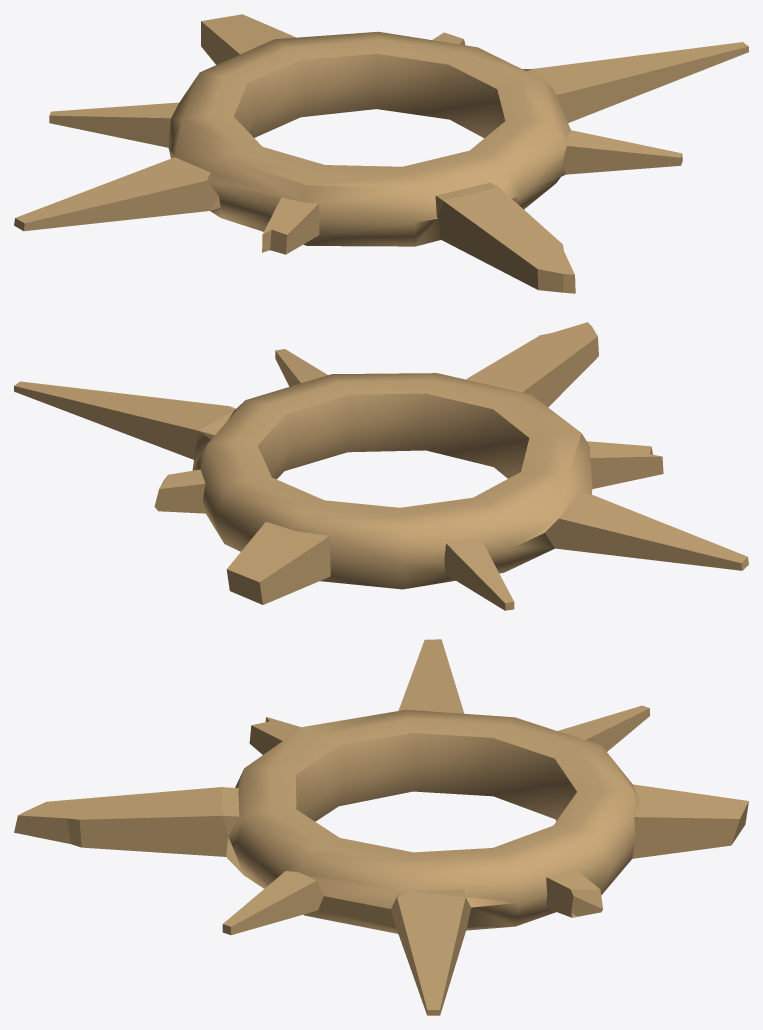
File: SunCross_Broken.fbx
3 views of the same model, one above another, from view 1: azimuth 30°, elevation 25°; view 2: azimuth 150°, elevation 25°; view 3: azimuth 270°, elevation 25° (orthographic). The views are drawn at different scales.
Parts seen in each view (by area): view 1: Torus.001; view 2: Torus.001; view 3: Torus.001.
Part boxes in pixels (<box>): Torus.001: <box>14,14,748,293</box>; Torus.001: <box>14,322,748,610</box>; Torus.001: <box>14,639,748,1015</box>.
Bounding box in the file's own units: 15.08 × 1.2 × 12.66.
